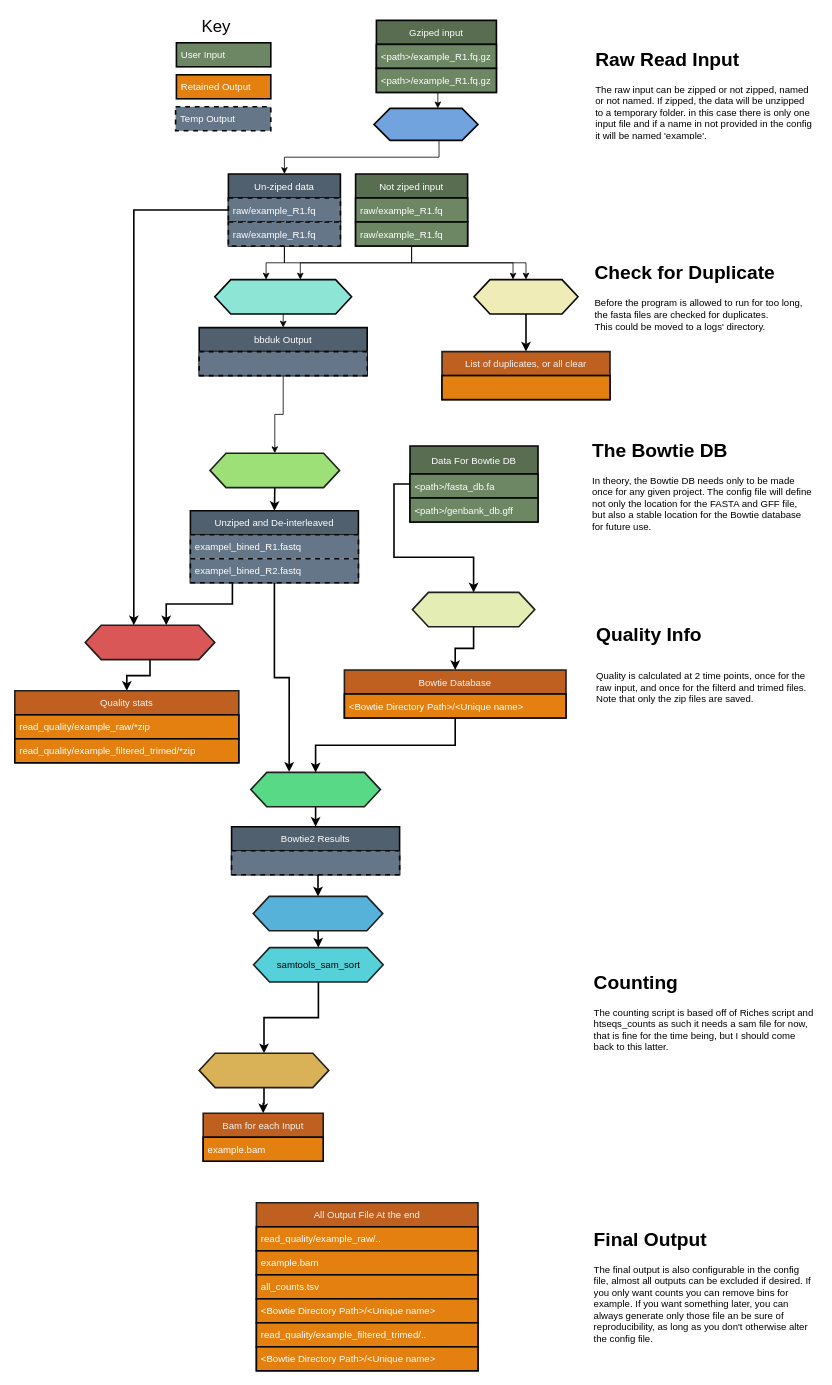
The diagram is 832 pixels wide and 1385 high, and some of its shapes have lost their labels. Here are the shapes that lost their labels. From the top down, the centre of each, then its label:
At (425,124): "unzip_file 1".
At (283,296): "sickle_trim_reads".
At (525,296): "check_dups_fasta".
At (283,363): "trimmed_reads/example/".
At (525,387): "duplicate_names_note.txt".
At (274,470): "deinterleave_fastq".
At (473,609): "bowtie2_build_database".
At (149,642): "fastqc_get_quality".
At (315,789): "bowtie2_map".
At (315,862): "results/bowtie2/example.sam".
At (317,913): "reformat_sam".
At (263,1070): "samtools_sam_to_bam".
